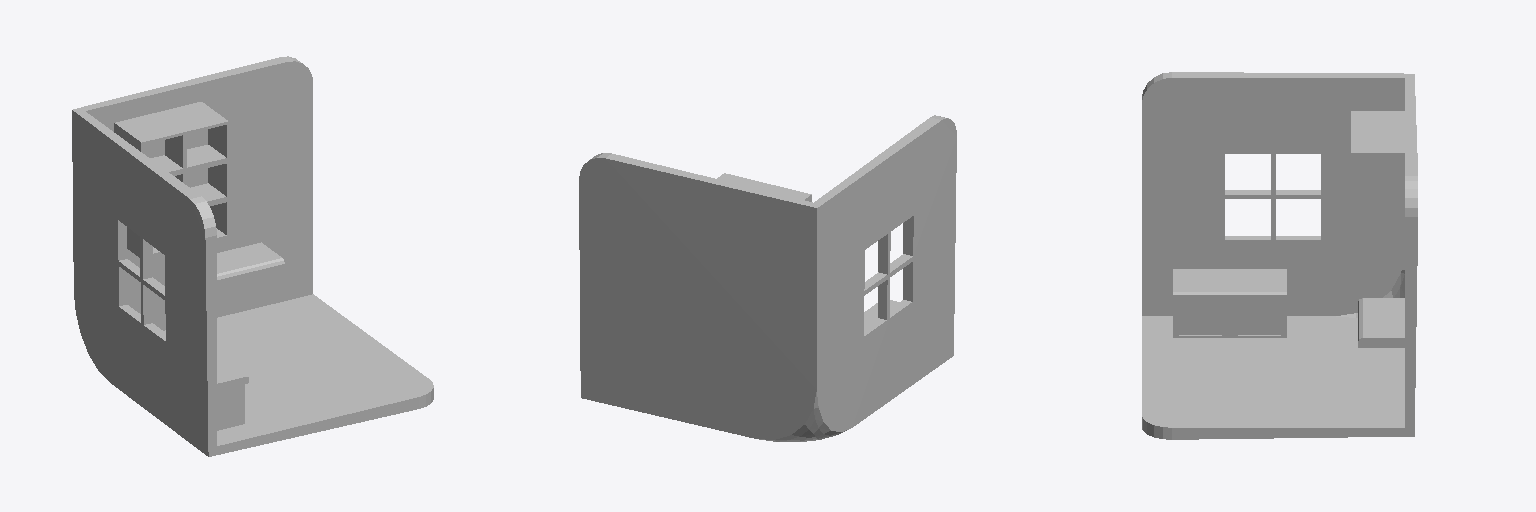
Rendered from test_room.obj.
3 renders of one model, left to right at view 1: azimuth 30°, elevation 25°; view 2: azimuth 150°, elevation 25°; view 3: azimuth 270°, elevation 25°, orthographic.
Parts seen in each view (by area): view 1: test_room; view 2: test_room; view 3: test_room.
Boxes of the visible parts, x1,y1,x2,y2 form: test_room: [72, 56, 433, 456]; test_room: [579, 115, 956, 441]; test_room: [1142, 72, 1417, 439].
Size of the model in its own units: 2.1 by 2.1 by 2.1.